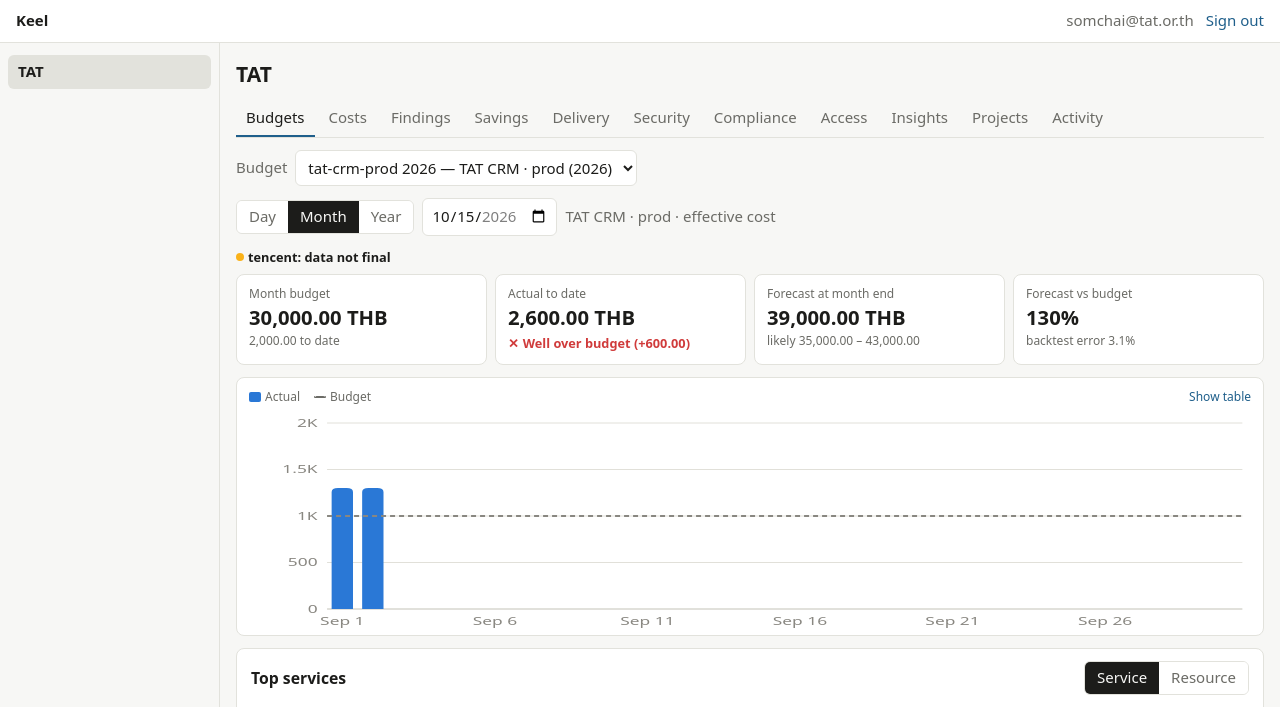
Test: finops screens › findings tab shows rightsizing current → recommended with evidence
Click the tab "Findings" at (421, 119), box [381,101,461,137]
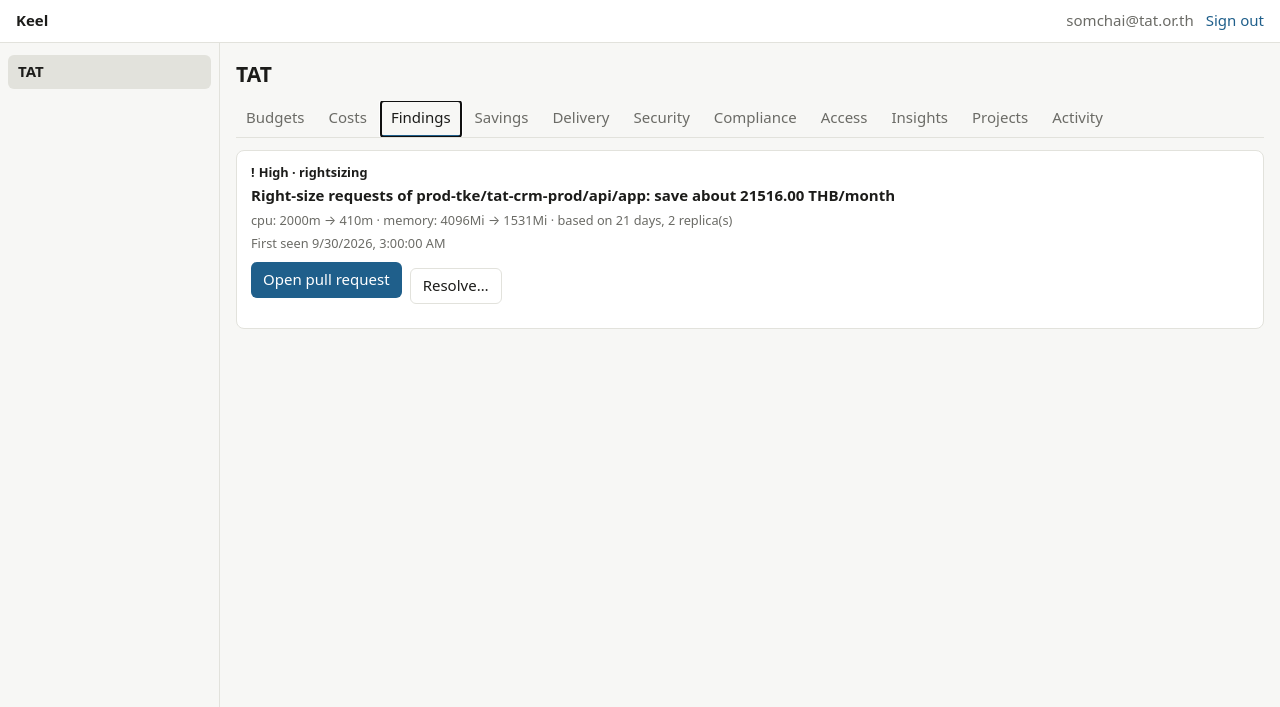
expect the text "cpu: 2000m → 410m · memory: 4096Mi → 1531Mi · based on 21 days, 2 replica" is shown: met, box [251,211,732,229]
expect the button "Open pull request" is shown: met, box [251,262,402,298]
